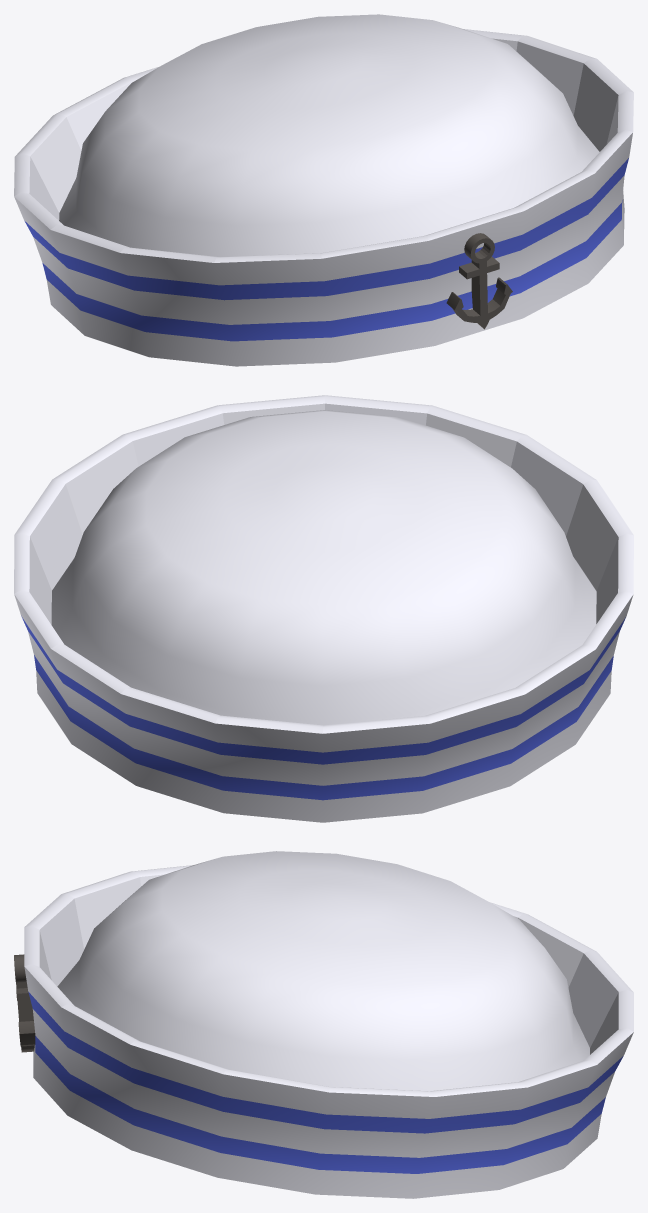
Rendered from Hat_106_01.fbx.
3 renders of one model, top to bottom at view 1: azimuth 30°, elevation 25°; view 2: azimuth 150°, elevation 25°; view 3: azimuth 270°, elevation 25°, orthographic.
Parts seen in each view (by area): view 1: Hat_106_01; view 2: Hat_106_01; view 3: Hat_106_01.
Part boxes in pixels (x1=…): Hat_106_01: x1=14, y1=14, x2=633, y2=366; Hat_106_01: x1=14, y1=395, x2=633, y2=822; Hat_106_01: x1=14, y1=851, x2=633, y2=1198.
Bounding box in the file's own units: 38.98 × 15.45 × 38.87.
